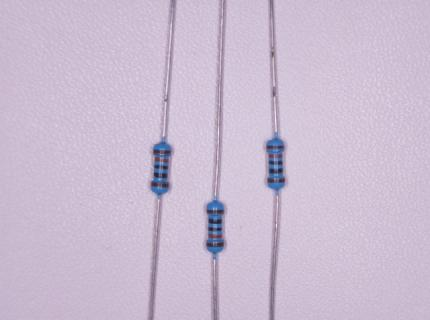Black band: (153, 172, 168, 178), (208, 218, 223, 224), (208, 227, 223, 232), (154, 165, 168, 170), (269, 160, 283, 165), (269, 169, 283, 174)
Brown band: (267, 178, 285, 184), (151, 182, 169, 188), (206, 242, 224, 248), (153, 149, 171, 154), (207, 209, 224, 214), (267, 146, 285, 149)
Orange band: (155, 157, 169, 163), (208, 234, 222, 239), (268, 154, 283, 158)
